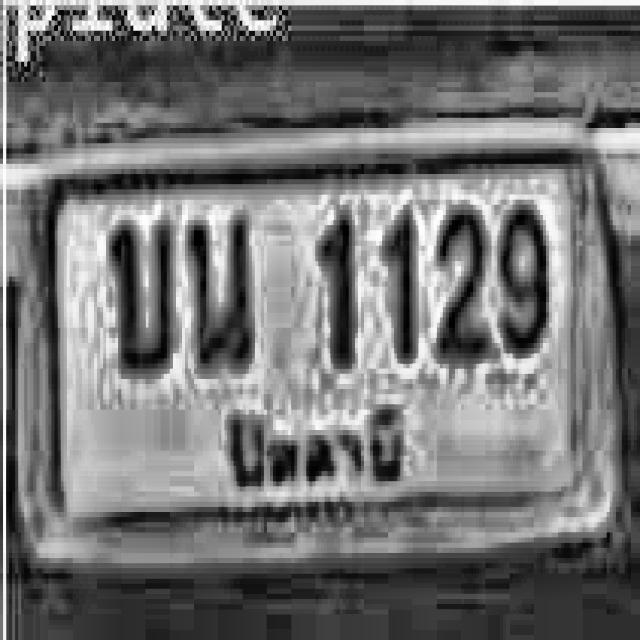license-plate: (25, 135, 618, 562)
